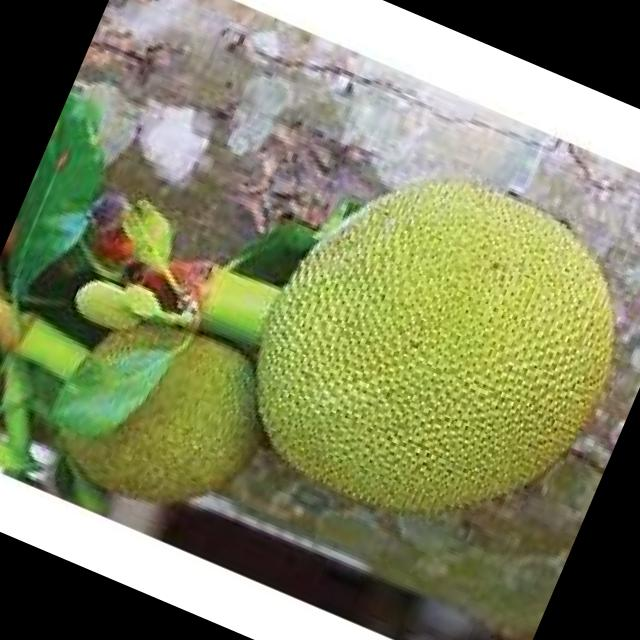Fruit: (182, 92, 640, 606), (0, 249, 311, 559)
